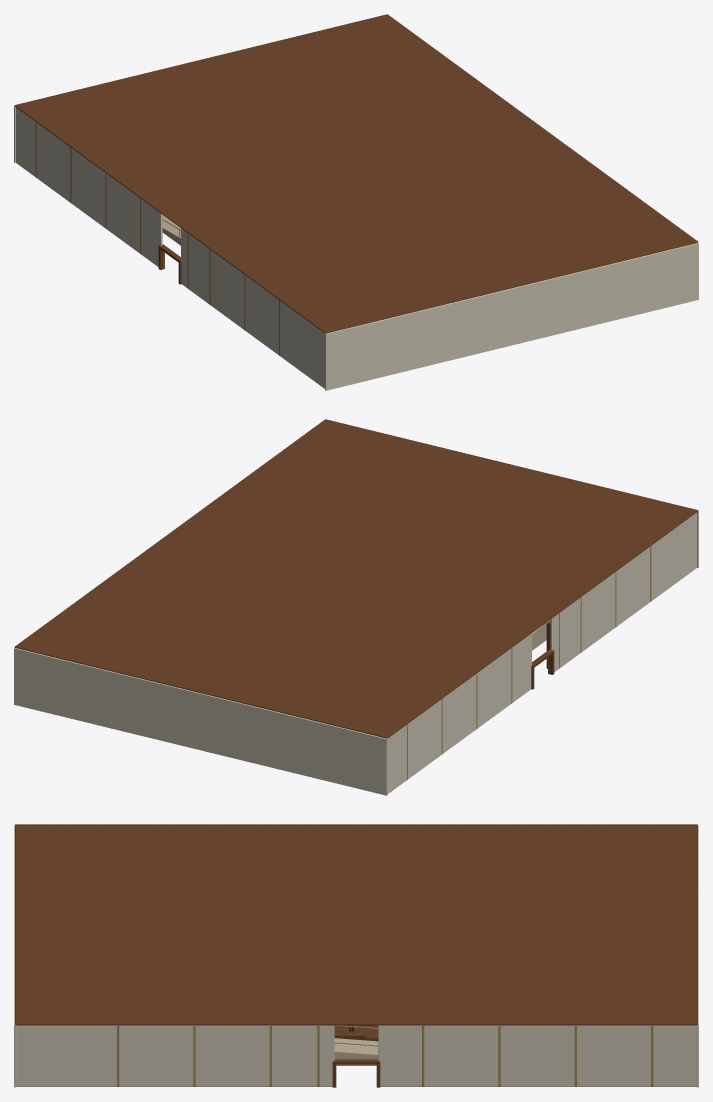
File: SOL_D11_directory_04_source001.glb
The picture shows the model from 3 angles, top to bottom: view 1: azimuth 30°, elevation 25°; view 2: azimuth 150°, elevation 25°; view 3: azimuth 270°, elevation 25°; orthographic projection. The views are drawn at different scales.
Parts seen in each view (by area): view 1: E_ceiling, E_outer_north, E_outer_west0, E_outer_west1; view 2: E_ceiling, E_outer_south, E_outer_west1, E_outer_west0; view 3: E_ceiling, E_outer_east1, E_outer_east0, E_return_ramp1.
Part boxes in pixels (x1=…): E_ceiling: x1=14, y1=14, x2=698, y2=333; E_outer_north: x1=325, y1=243, x2=698, y2=390; E_outer_west0: x1=16, y1=107, x2=162, y2=266; E_outer_west1: x1=181, y1=228, x2=324, y2=388; E_ceiling: x1=14, y1=419, x2=698, y2=738; E_outer_south: x1=14, y1=648, x2=387, y2=795; E_outer_west1: x1=550, y1=512, x2=696, y2=671; E_outer_west0: x1=388, y1=633, x2=531, y2=793; E_ceiling: x1=15, y1=824, x2=697, y2=1025; E_outer_east1: x1=16, y1=1025, x2=334, y2=1086; E_outer_east0: x1=378, y1=1025, x2=696, y2=1086; E_return_ramp1: x1=334, y1=1038, x2=378, y2=1065.
Size of the model in its own units: 49.75 by 7.34 by 71.84.
15 materials, 15 textured.
